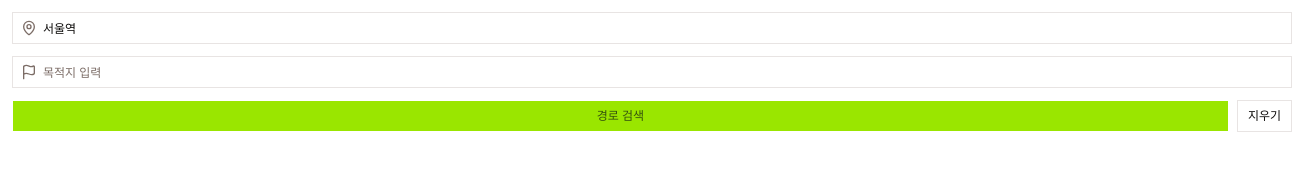
SearchForm › shows error message when to field is empty and search is clicked
This screenshot has width=1304, height=172.
Click the button "경로 검색" at x=620, y=116, box [12,100,1229,132]
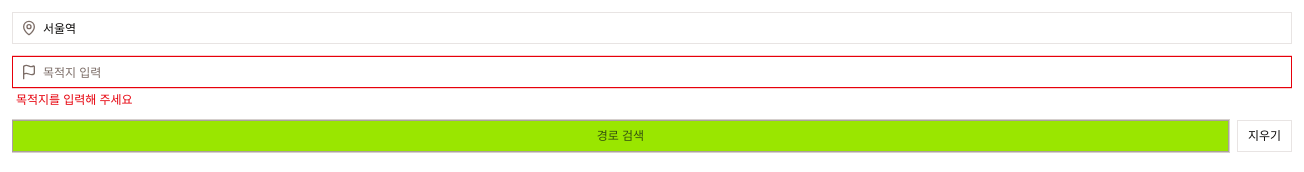
Check: the text "목적지를 입력해 주세요" is shown, box [16,91,133,108]
